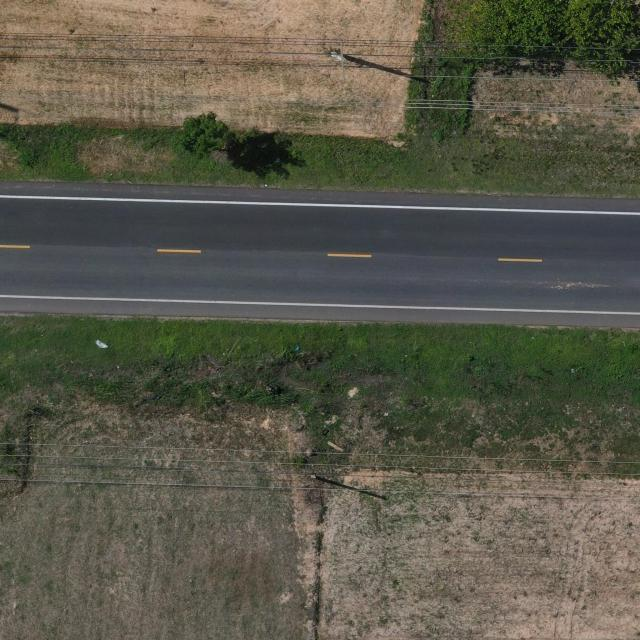Tree: (472, 0, 566, 62), (564, 0, 640, 71), (181, 110, 232, 161)
